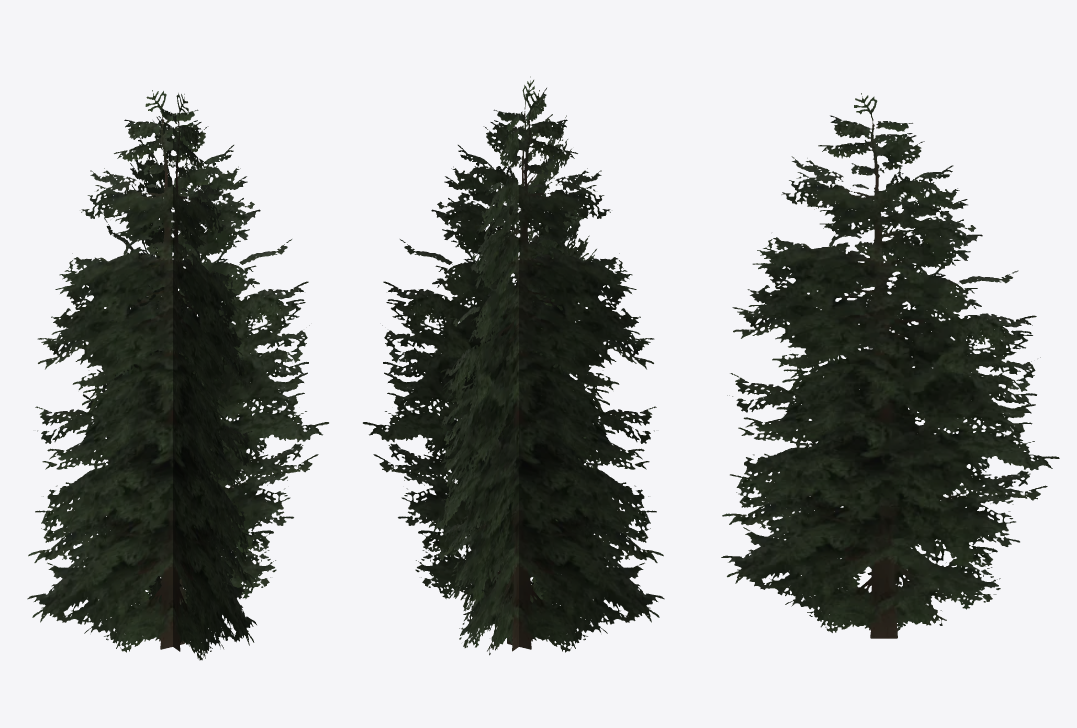
The model's file is baum_fichte_1_lod2.glb.
3 renders of one model, left to right at view 1: azimuth 30°, elevation 25°; view 2: azimuth 150°, elevation 25°; view 3: azimuth 270°, elevation 25°, orthographic. The views are drawn at different scales.
Visible parts, largest first — view 1: Billboard; view 2: Billboard; view 3: Billboard.
Boxes of the visible parts, x1,y1,x2,y2 form: Billboard: (27,90,328,660); Billboard: (363,76,664,655); Billboard: (721,93,1059,638).
Bounding box in the file's own units: 10.58 × 18 × 10.58.
Materials: 1 (1 with a texture image).
